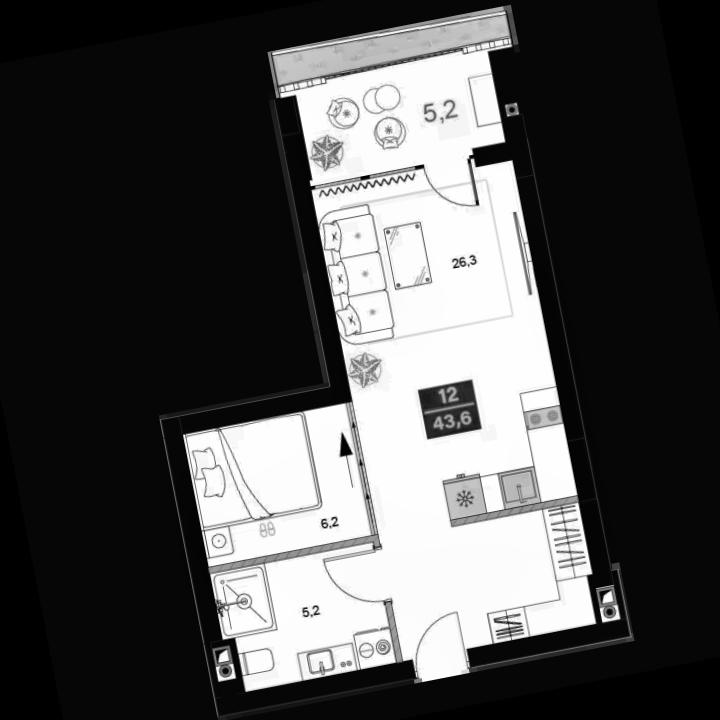door: (399, 606, 474, 684), (320, 544, 396, 617), (420, 150, 486, 218)
window: (365, 160, 422, 185), (310, 171, 366, 196)
